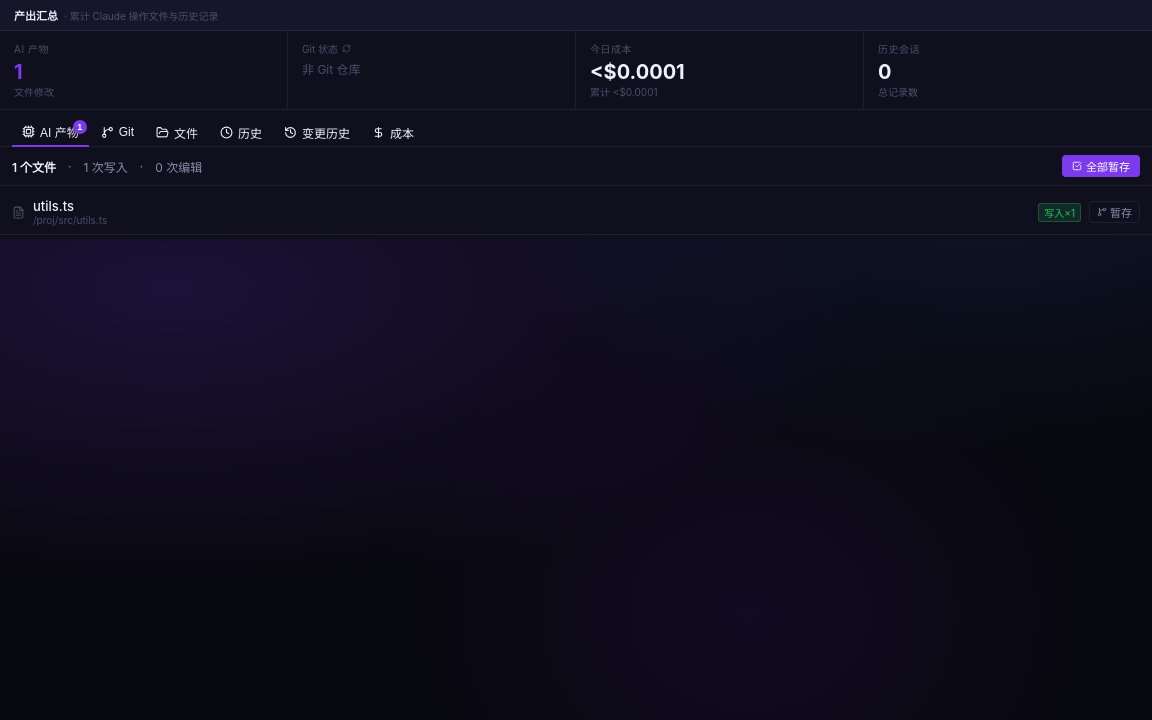
Test: ChangeHistoryPanel - 有记录 › 点击批次标题展开文件列表
Click the button "变更历史" at (317, 132), box [274, 118, 360, 146]
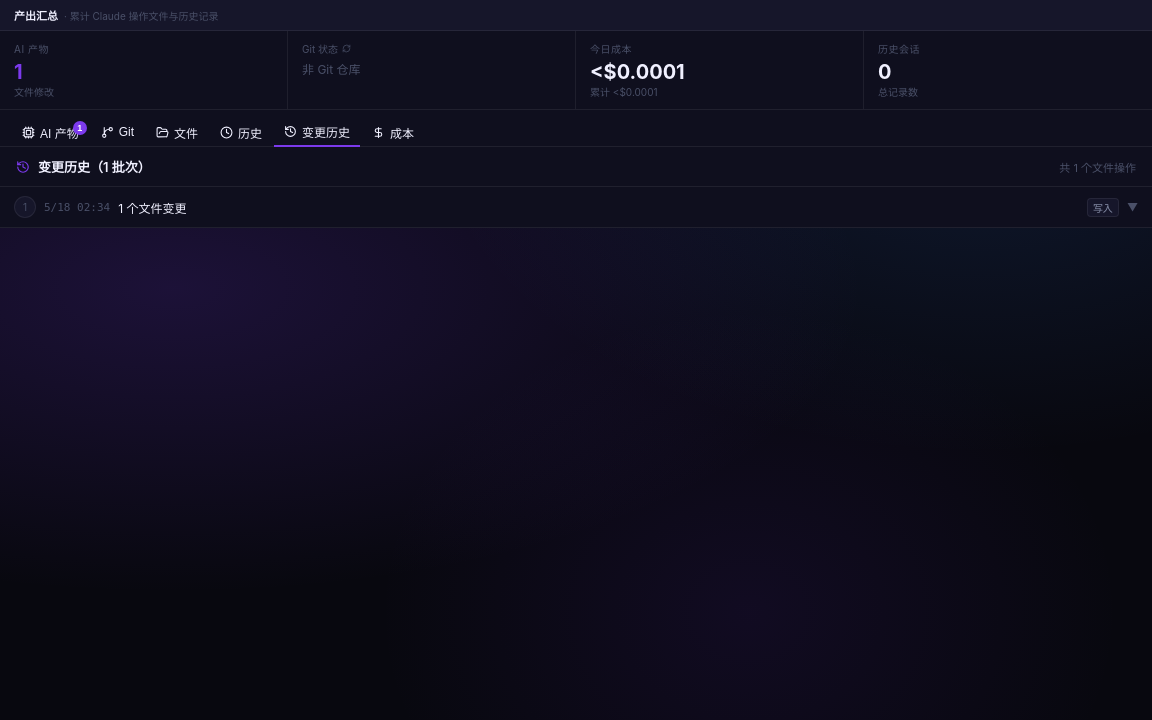
expect the text "1 个文件变更" is shown: met
expect the text "utils.ts /proj/src/utils.ts 写入×1 暂存" is gone: met
Click the text "1 个文件变更" at (152, 208), box [118, 200, 186, 216]
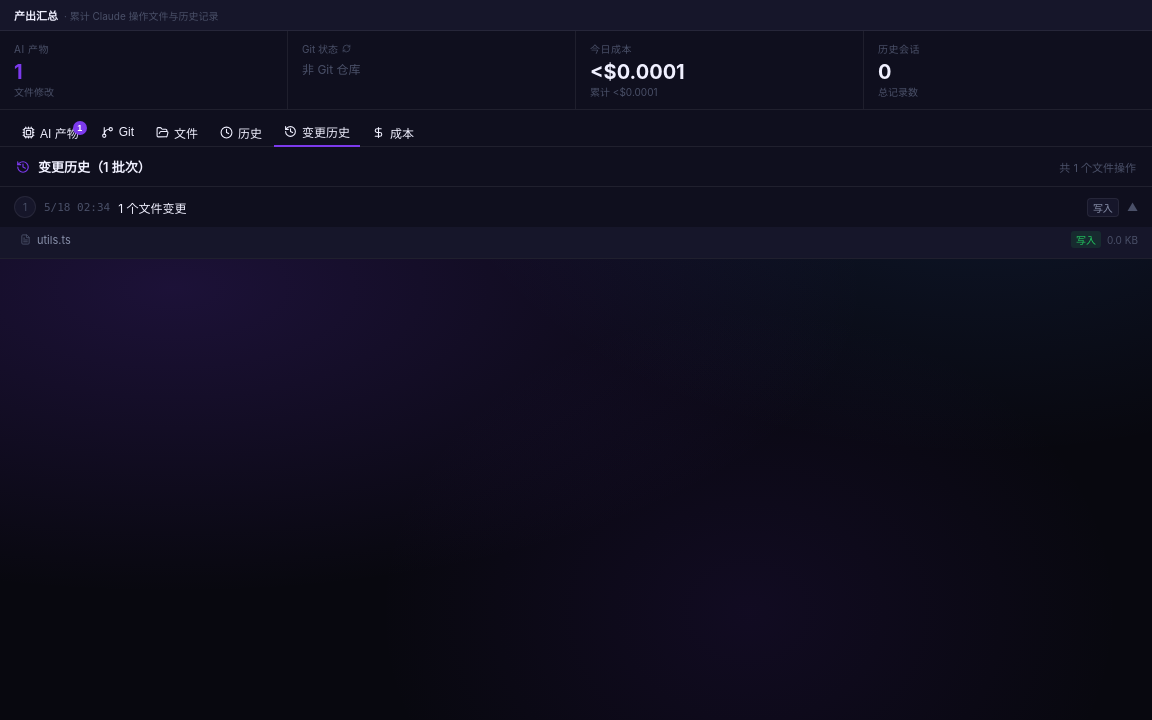
expect the text "utils.ts" is shown: met, box [37, 232, 71, 246]
